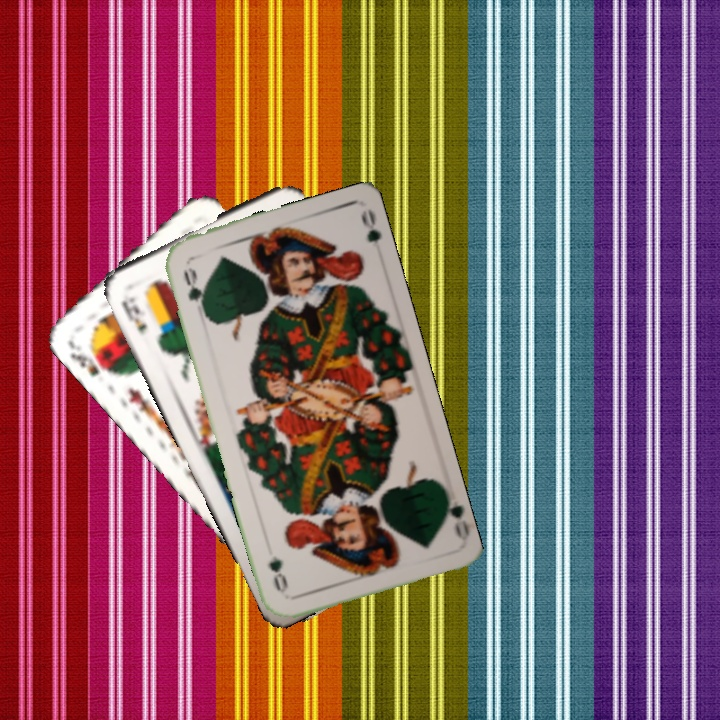EK: (117, 289, 150, 337)
GO: (438, 486, 470, 543), (179, 263, 208, 315)
SK: (63, 336, 116, 379)
